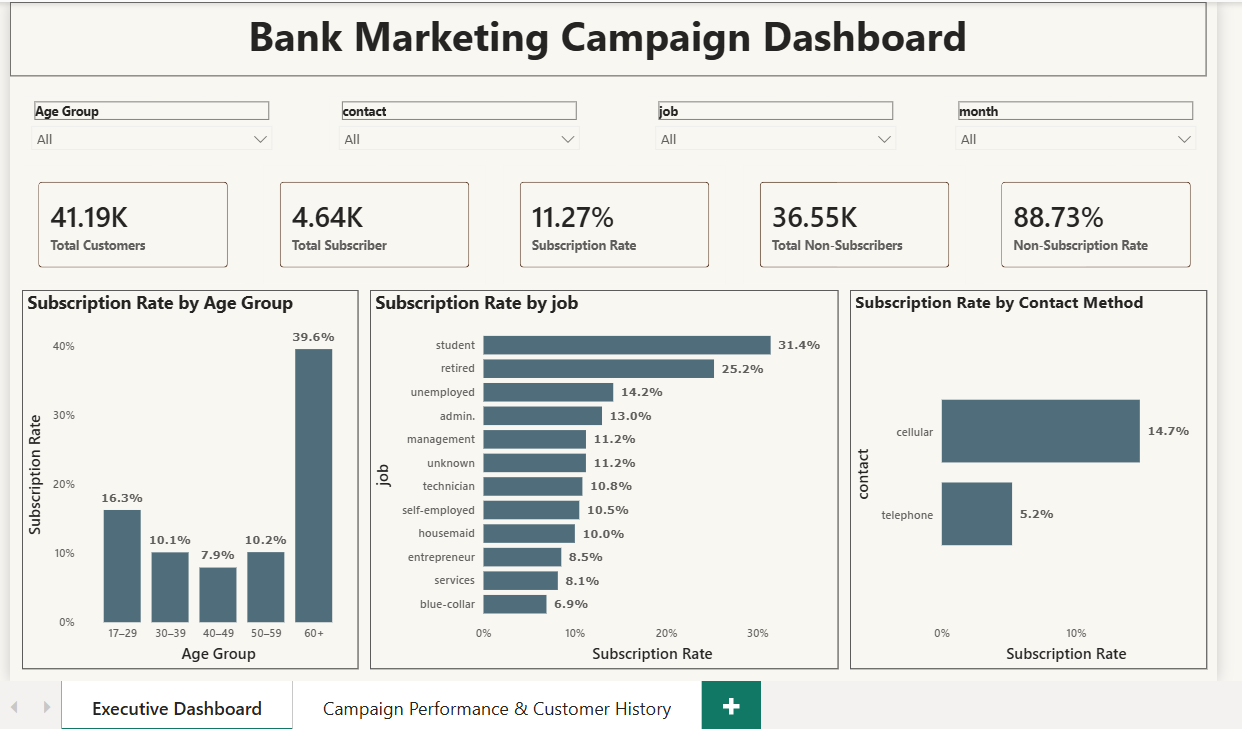

The page's visual inventory and layout, read from the dashboard file:
{"tool":"powerbi","page":{"name":"Executive Dashboard","canvas":[1280,720],"ordinal":0},"visuals":[{"type":"textbox","box":[0,0,1268.3,78.3],"z":0},{"type":"cardVisual","fields":{"Data":["Measures (2).Total Customers"]},"box":[13.3,173.3,235,125],"z":1000},{"type":"clusteredColumnChart","title":"Subscription Rate by Age Group","fields":{"Category":["bank_marketing_clean.Age Group"],"Y":["Measures (2).Subscription Rate %"]},"box":[13.3,305,356.7,401.7],"z":2000},{"type":"barChart","title":"Subscription Rate by job","fields":{"Category":["bank_marketing_clean.job"],"Y":["Measures (2).Subscription Rate %"]},"box":[381.7,305,496.7,401.7],"z":3000},{"type":"clusteredBarChart","title":"Subscription Rate by Contact Method","fields":{"Category":["bank_marketing_clean.contact"],"Y":["Measures (2).Subscription Rate %"]},"box":[890,305,378.3,401.7],"z":4000},{"type":"cardVisual","fields":{"Data":["Measures (2).Total Subscriber"]},"box":[268.3,173.3,235,125],"z":5000},{"type":"cardVisual","fields":{"Data":["Measures (2).Subscription Rate %"]},"box":[523.3,173.3,235,125],"z":6000},{"type":"cardVisual","fields":{"Data":["Measures (2).Total Non-Subscribers"]},"box":[778.3,173.3,235,125],"z":7000},{"type":"cardVisual","fields":{"Data":["Measures (2).Non-Subscription Rate %"]},"box":[1033.3,173.3,235,125],"z":8000},{"type":"slicer","fields":{"Values":["bank_marketing_clean.month"]},"box":[993.3,100,275,56.7],"z":9000},{"type":"slicer","fields":{"Values":["bank_marketing_clean.job"]},"box":[675,100,275,56.7],"z":10000},{"type":"slicer","fields":{"Values":["bank_marketing_clean.contact"]},"box":[338.3,100,275,56.7],"z":11000},{"type":"slicer","fields":{"Values":["bank_marketing_clean.Age Group"]},"box":[13.3,100,275,56.7],"z":12000}]}

Visuals, with their boxes on the page's 1280x720 design canvas (x1, y1, x2, y2). These are canvas units, not pixel positions in the 1242x729 screenshot, which may show the page scaled, cropped or inside an application window:
textbox: x1=0 y1=0 x2=1268 y2=78
cardVisual - Measures (2).Total Customers: x1=13 y1=173 x2=248 y2=298
"Subscription Rate by Age Group" clusteredColumnChart: x1=13 y1=305 x2=370 y2=707
"Subscription Rate by job" barChart: x1=382 y1=305 x2=878 y2=707
"Subscription Rate by Contact Method" clusteredBarChart: x1=890 y1=305 x2=1268 y2=707
cardVisual - Measures (2).Total Subscriber: x1=268 y1=173 x2=503 y2=298
cardVisual - Measures (2).Subscription Rate %: x1=523 y1=173 x2=758 y2=298
cardVisual - Measures (2).Total Non-Subscribers: x1=778 y1=173 x2=1013 y2=298
cardVisual - Measures (2).Non-Subscription Rate %: x1=1033 y1=173 x2=1268 y2=298
slicer - bank_marketing_clean.month: x1=993 y1=100 x2=1268 y2=157
slicer - bank_marketing_clean.job: x1=675 y1=100 x2=950 y2=157
slicer - bank_marketing_clean.contact: x1=338 y1=100 x2=613 y2=157
slicer - bank_marketing_clean.Age Group: x1=13 y1=100 x2=288 y2=157
